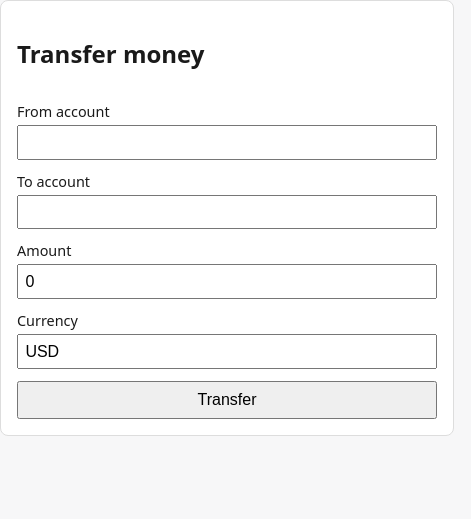
Test case: TransferForm › submits a transfer and shows the returned transfer id
This screenshot has width=471, height=519.
Step 1. Type "account-a" into the field labelled "From account" → (227,142), box top-left (17, 125), bottom-right (437, 160)
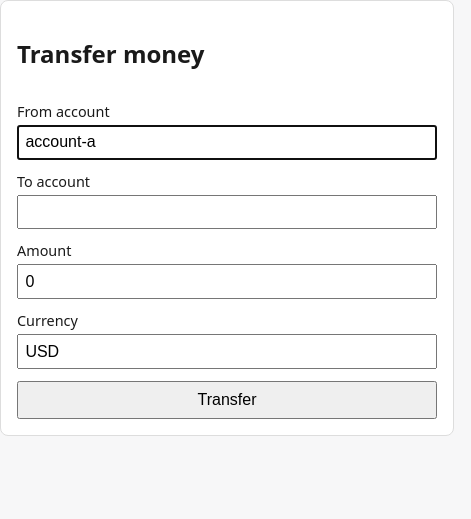
Step 2. Type "account-b" into the field labelled "To account" → (227,212), box top-left (17, 195), bottom-right (437, 229)
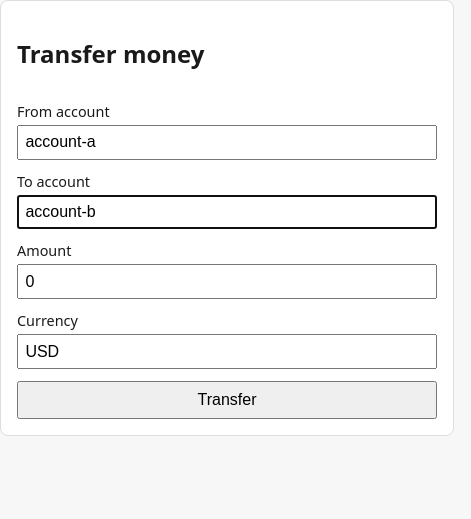
Step 3. Replace the text in the number field labelled "Amount" with "75" → (227,282), box top-left (17, 264), bottom-right (437, 299)
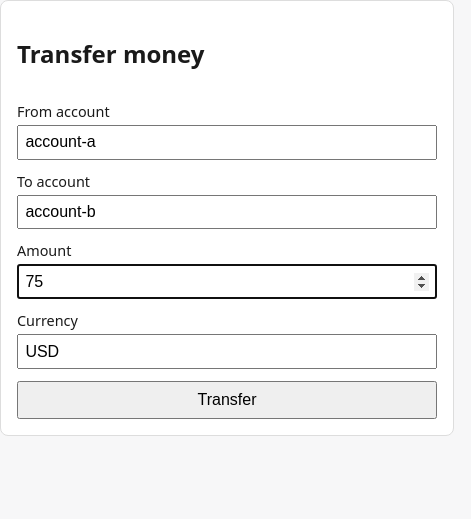
Step 4. Click the button "Transfer" → (227,400), box top-left (17, 381), bottom-right (437, 419)
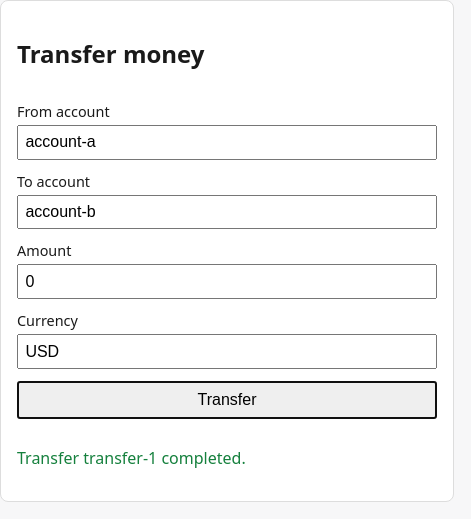
Check: the text "Transfer transfer-1 completed." is shown, box top-left (17, 447), bottom-right (246, 469)
